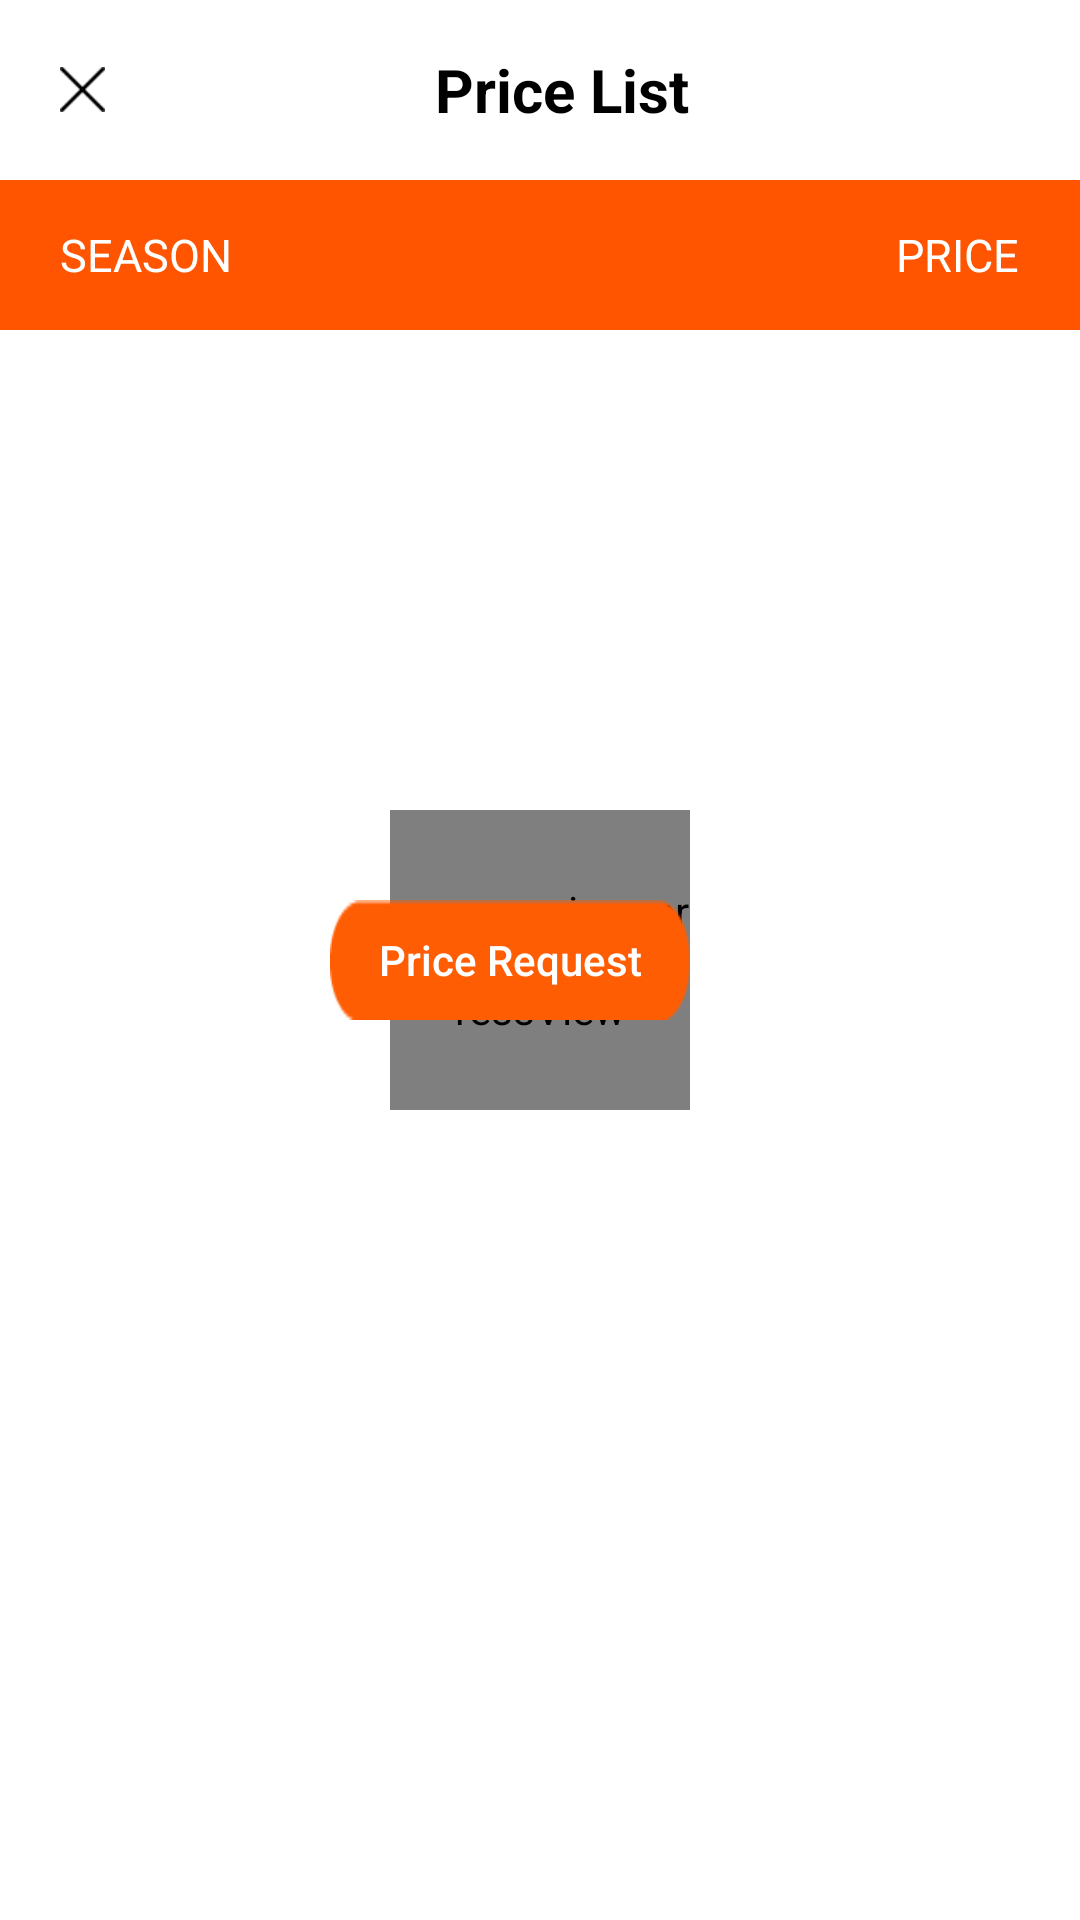

Where icons sit on this 1080×1920 app screen, as [x1, y1, x2, y2]:
close: [60, 67, 105, 112]
